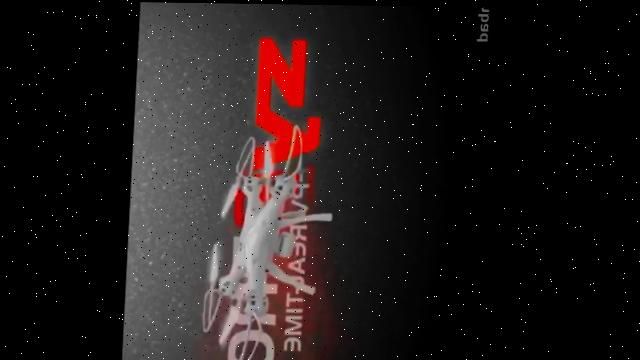drone: (201, 121, 338, 360)
